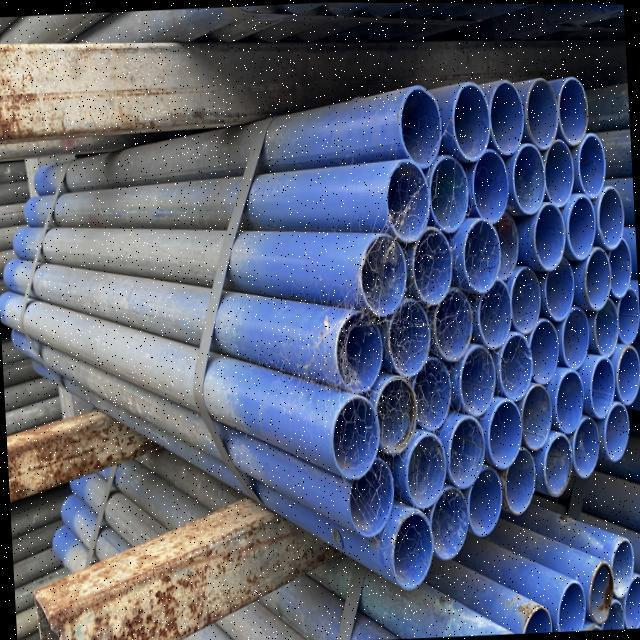pipe: (337, 309, 387, 395), (349, 453, 398, 537), (383, 298, 433, 380), (335, 397, 383, 481), (364, 233, 410, 315), (434, 286, 479, 368), (401, 86, 444, 171), (413, 347, 453, 437), (378, 376, 422, 457), (406, 431, 452, 508), (428, 480, 471, 561), (388, 159, 432, 238), (453, 80, 494, 164), (391, 508, 434, 586), (456, 346, 502, 418), (468, 448, 505, 537), (469, 147, 511, 225), (413, 228, 455, 306), (500, 433, 539, 516), (462, 219, 504, 296), (487, 81, 525, 165), (486, 400, 528, 474), (432, 155, 472, 232), (452, 414, 490, 493), (474, 278, 514, 351), (514, 135, 550, 215), (498, 333, 537, 405), (520, 381, 557, 455), (546, 130, 577, 216), (545, 243, 576, 326), (572, 411, 608, 481), (511, 264, 545, 336), (535, 202, 570, 271), (529, 316, 559, 394), (540, 430, 574, 498), (559, 76, 590, 146), (583, 237, 612, 311), (531, 82, 563, 147), (560, 304, 592, 369), (558, 371, 589, 437), (578, 134, 608, 198), (590, 355, 619, 421), (496, 209, 521, 284), (593, 294, 621, 357), (605, 402, 633, 463), (572, 197, 599, 259), (598, 183, 623, 246), (587, 563, 613, 623), (612, 538, 636, 600), (619, 338, 640, 404), (611, 236, 634, 296), (561, 586, 585, 630), (623, 289, 640, 340), (626, 583, 640, 625)
